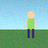person: (24, 11, 38, 38)
